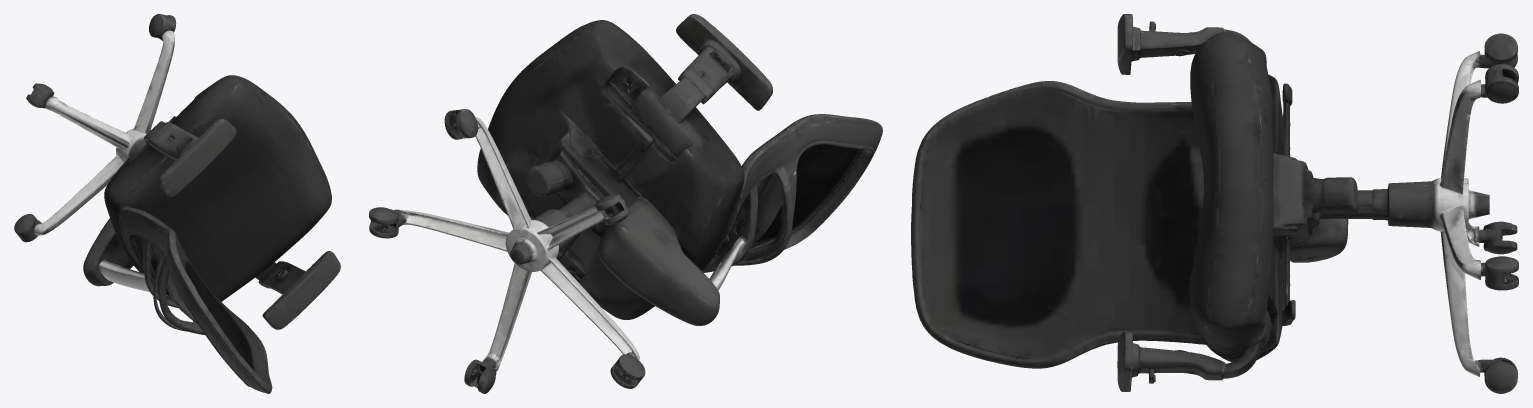
3 renders of one model, left to right at view 1: azimuth 30°, elevation 25°; view 2: azimuth 150°, elevation 25°; view 3: azimuth 270°, elevation 25°, orthographic. The views are drawn at different scales.
Visible parts, largest first — view 1: Craig.001; view 2: Craig.001; view 3: Craig.001.
Boxes of the visible parts, x1,y1,x2,y2 form: Craig.001: (14,14,340,393); Craig.001: (369,14,882,393); Craig.001: (911,14,1518,393).
Size of the model in its own units: 0.0213 by 0.0211 by 0.0323.
1 material, 1 textured.
